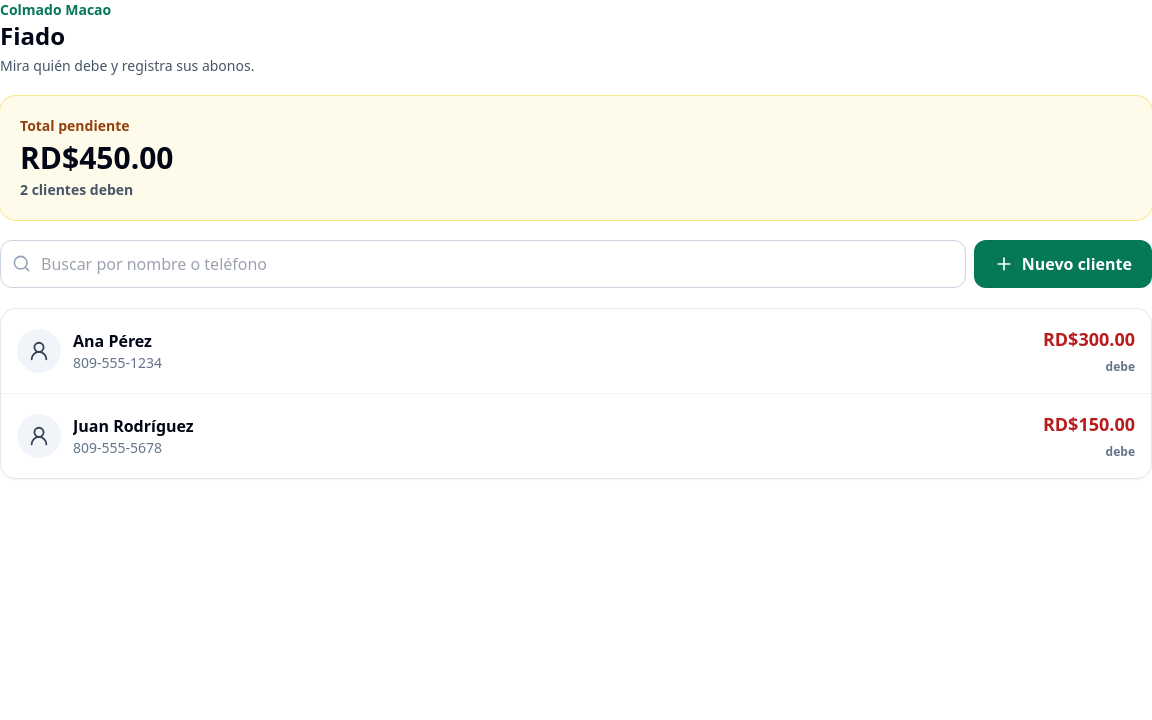
CreditPanel › creates a customer with an optional credit limit
Click the button "Nuevo cliente": (1063, 264) [974,240,1151,288]
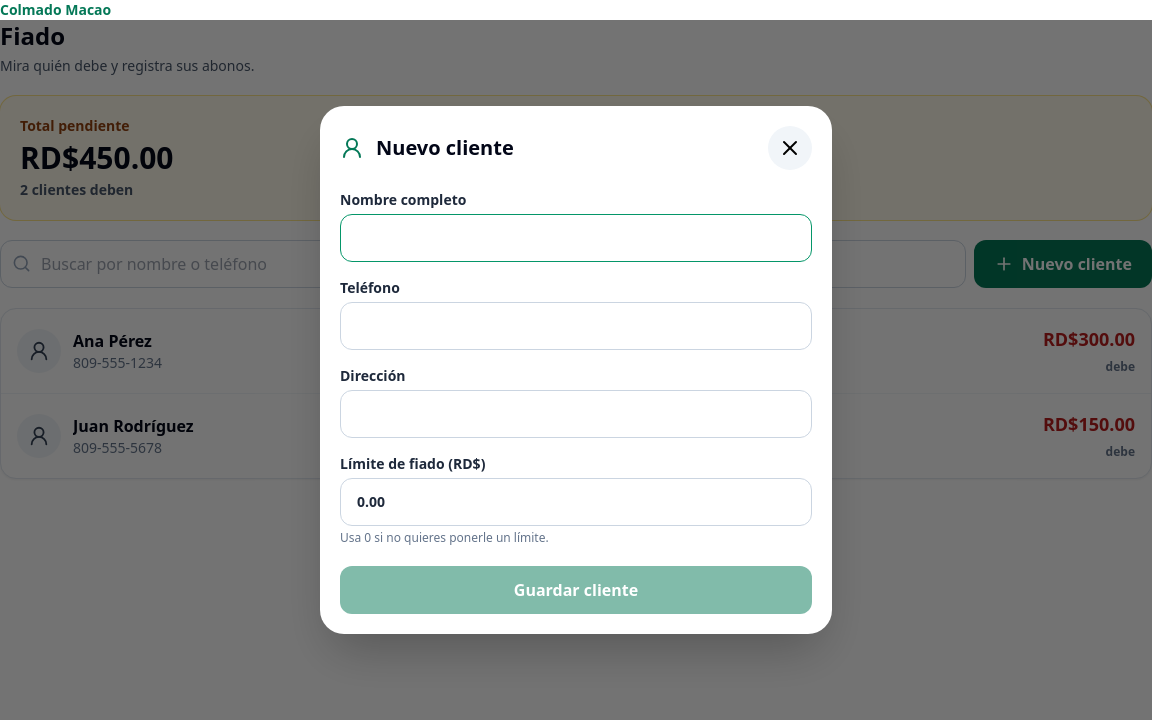
In the field labelled "Nombre completo": (576, 238) [340,214,812,262], type "  María López  "
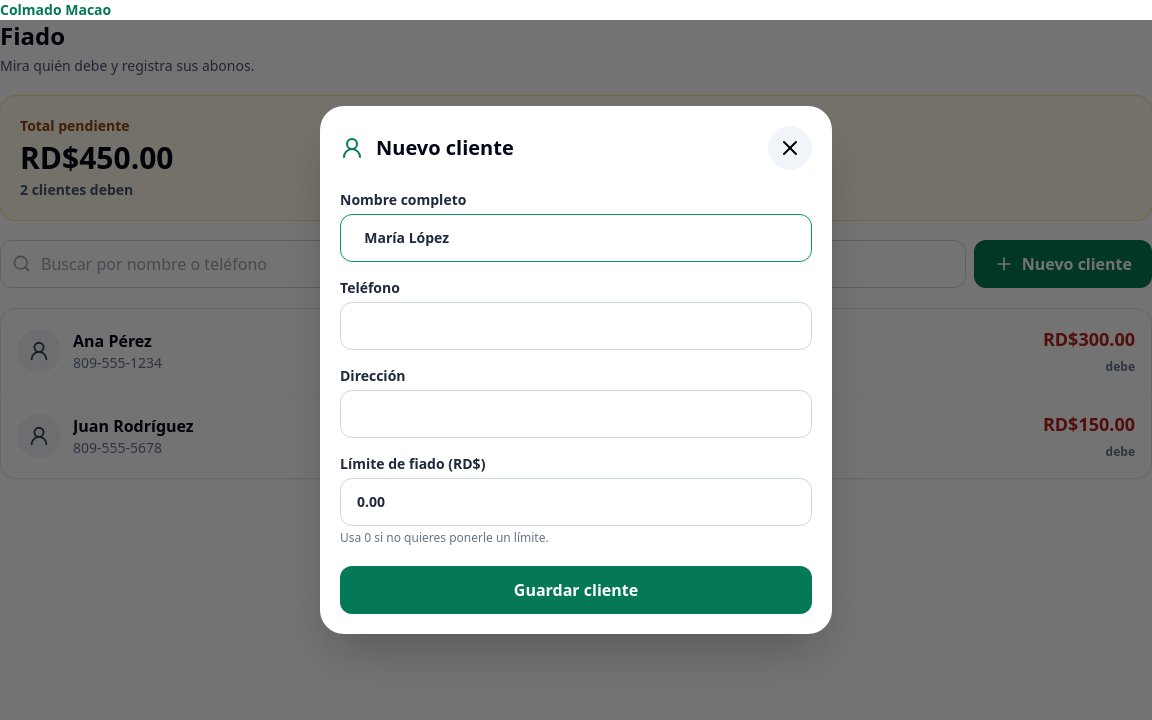
In the field labelled "Teléfono": (576, 326) [340,302,812,350], type "809-555-9999"
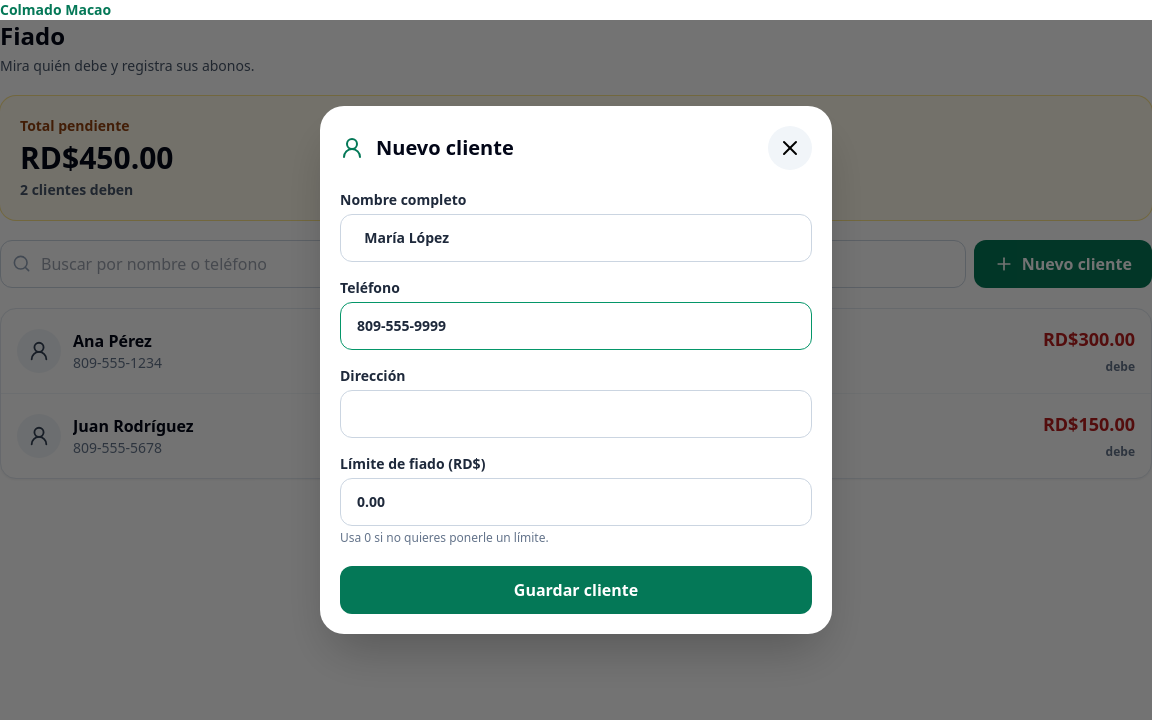
In the field labelled "Dirección": (576, 414) [340,390,812,438], type "El Cortecito"
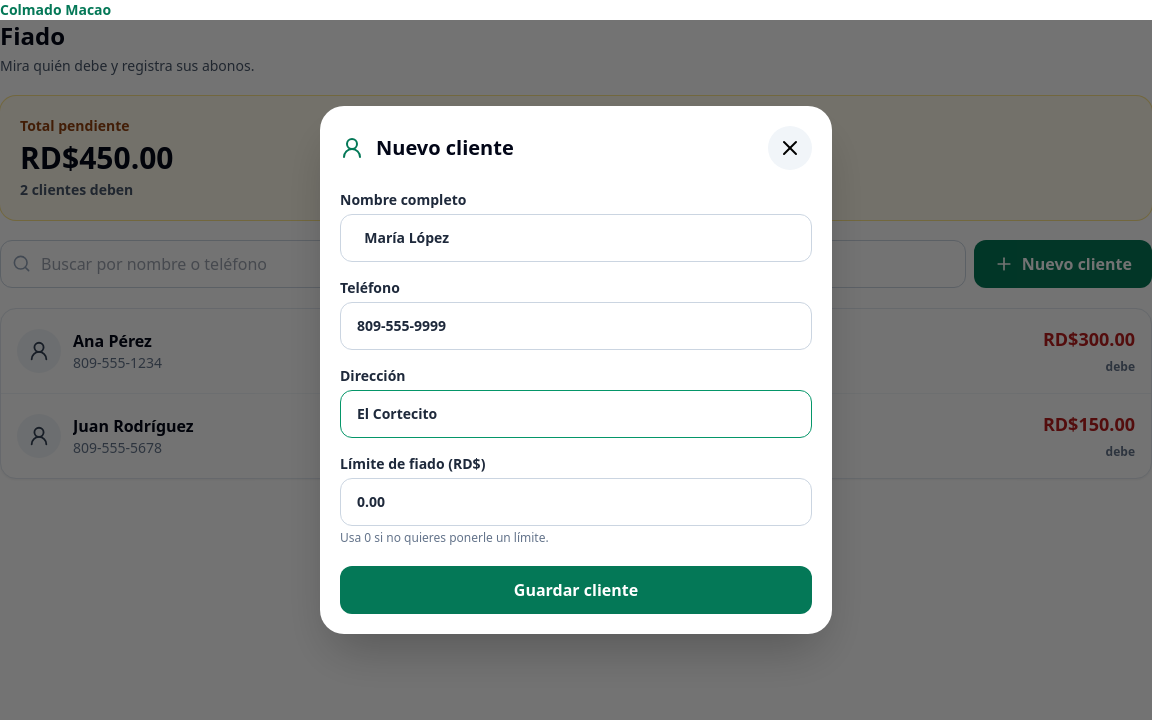
Replace the text in the number field labelled "Límite de fiado (RD$) Usa 0 si no quieres ponerle un límite." with "2000": (576, 502) [340,478,812,526]
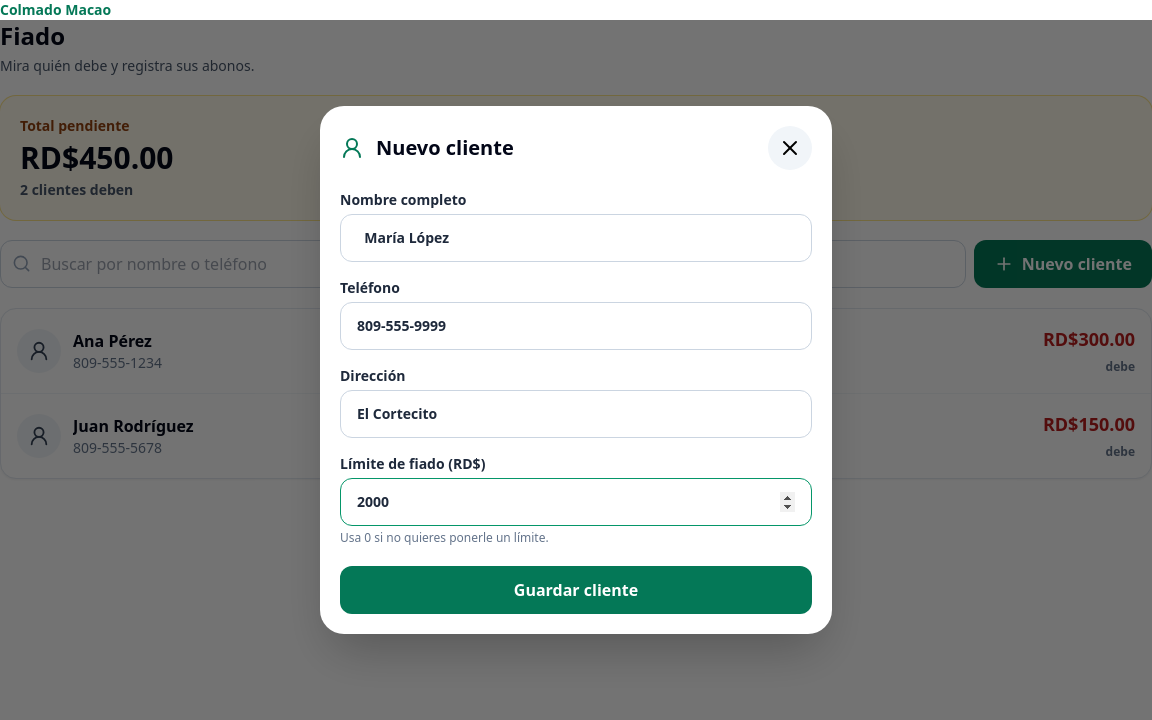
Click the button "Guardar cliente": (576, 590) [340,566,812,614]
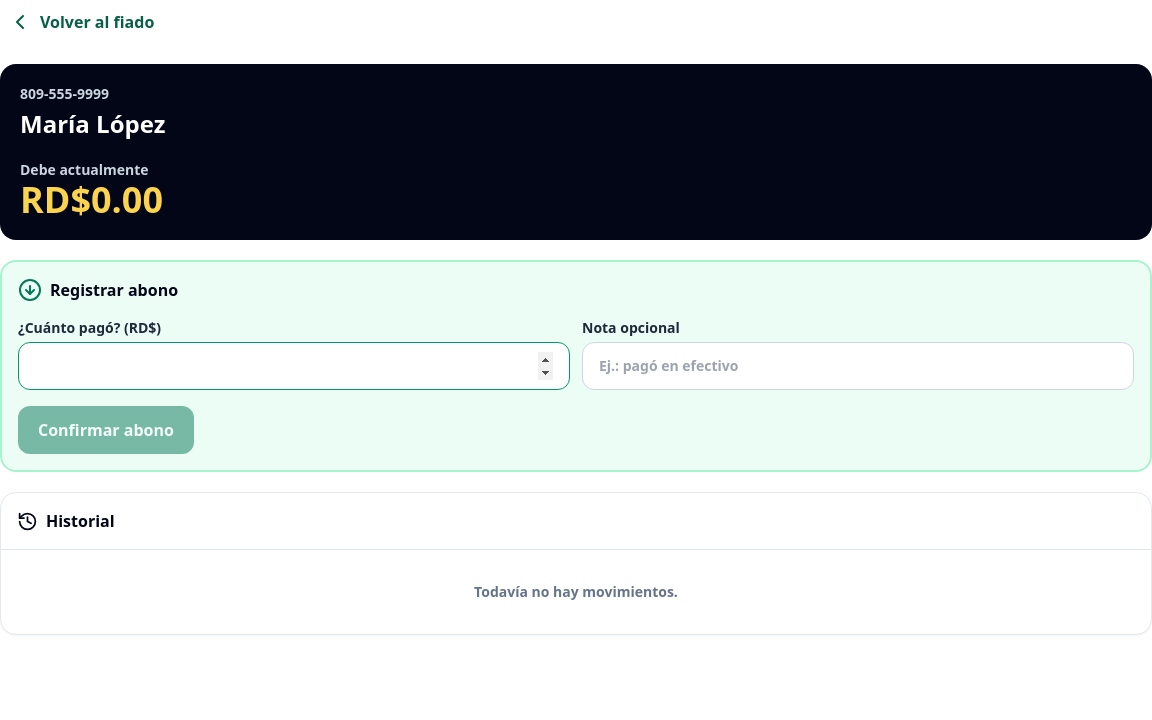
Check: the heading "María López" is shown, box [20,107,165,140]
